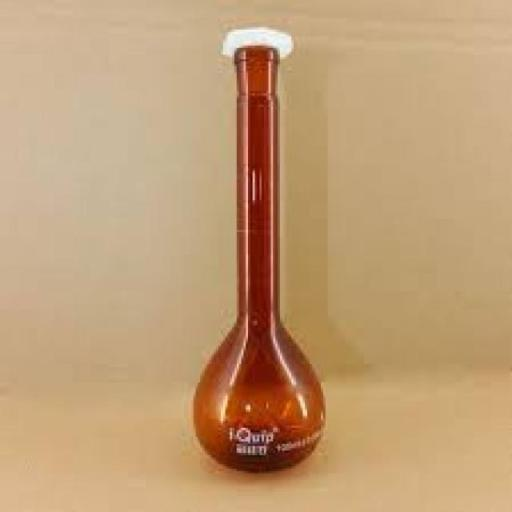glass: (174, 32, 354, 479)
